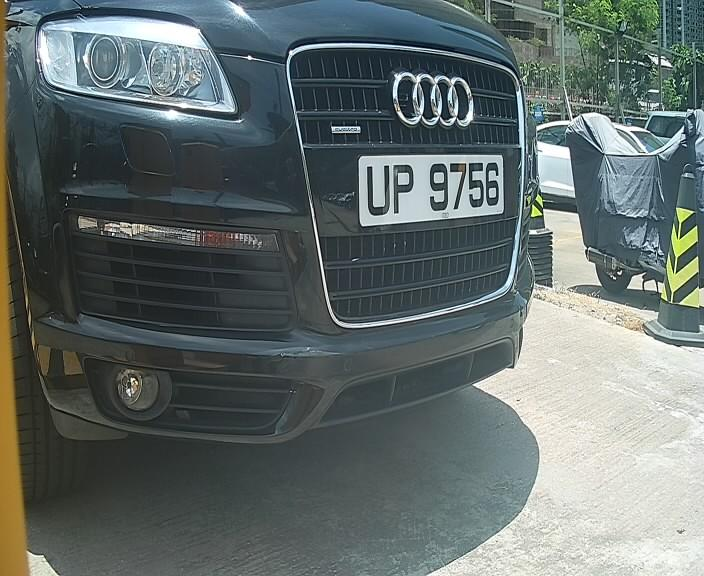Car: (4, 1, 579, 479)
License Plate: (349, 139, 506, 242)
